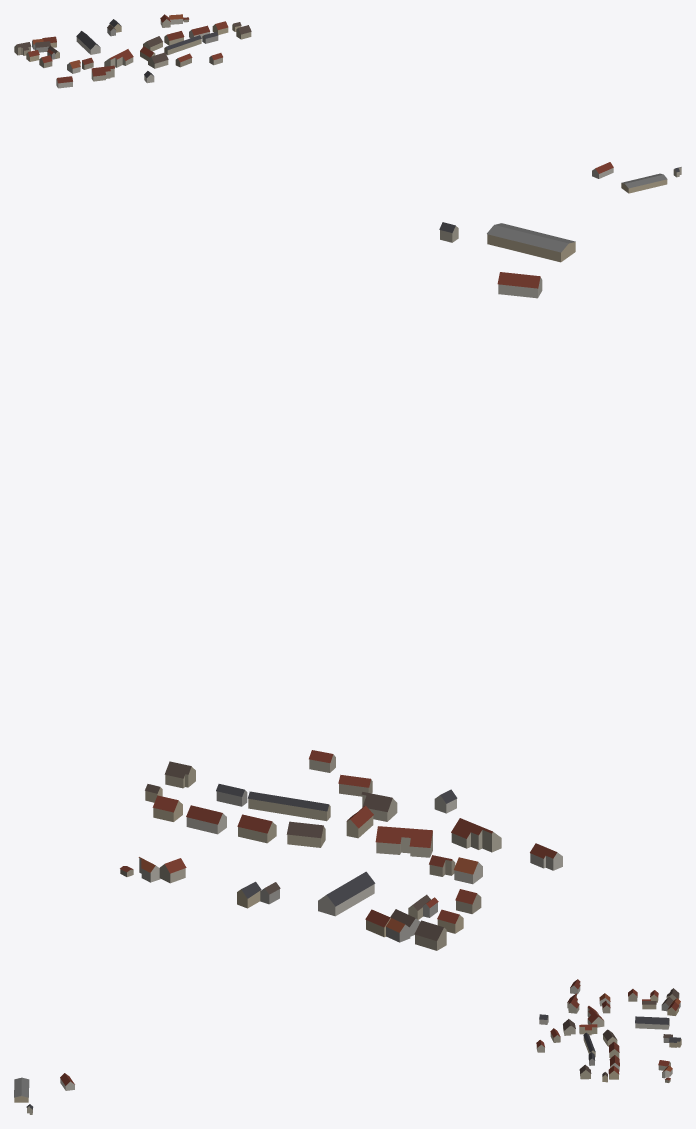
3 renders of one model, top to bottom at view 1: azimuth 30°, elevation 25°; view 2: azimuth 150°, elevation 25°; view 3: azimuth 270°, elevation 25°, orthographic. The views are drawn at different scales.
Parts seen in each view (by area): view 1: buildings; view 2: buildings; view 3: buildings.
Part boxes in pixels (x1=…): buildings: x1=14, y1=14, x2=681, y2=193; buildings: x1=120, y1=222, x2=575, y2=950; buildings: x1=14, y1=979, x2=681, y2=1114.
Bounding box in the file's own units: 404 × 64.16 × 704.
